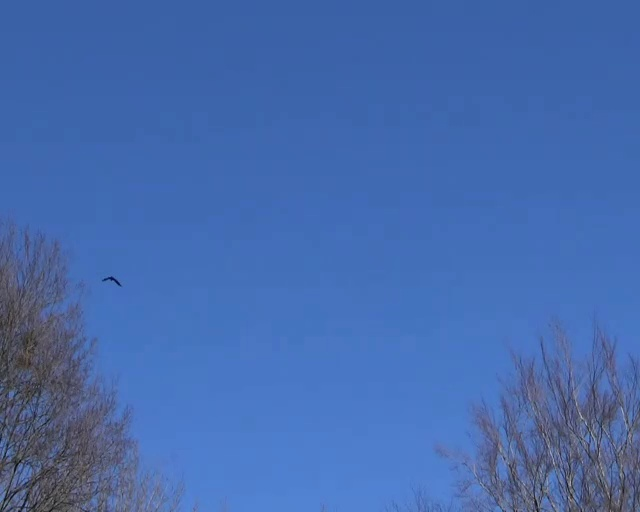BIRD: (102, 276, 122, 286)
